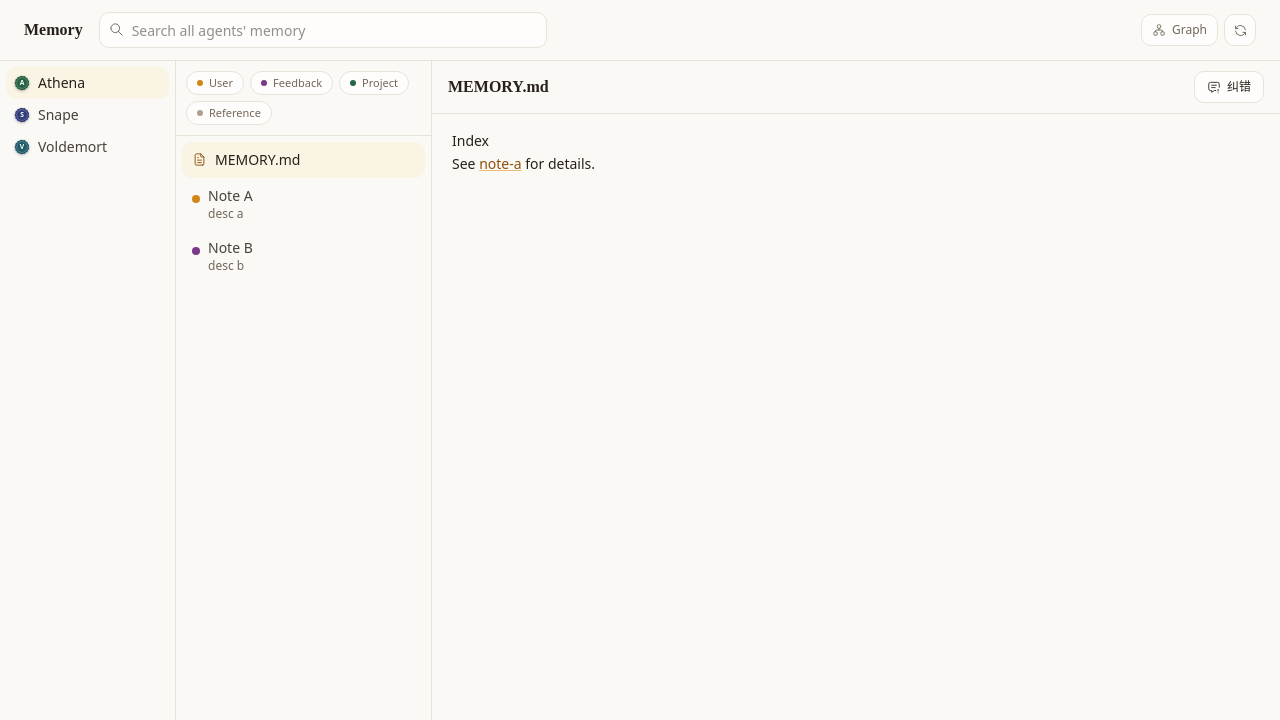
MemoryPage › clears stale data and hides the correct button when switching to an agent whose fetch fails
Expected: the heading "Index" is shown, [452, 131, 489, 150]
Click the text "Voldemort".
click(73, 147)  # box [38, 137, 107, 157]
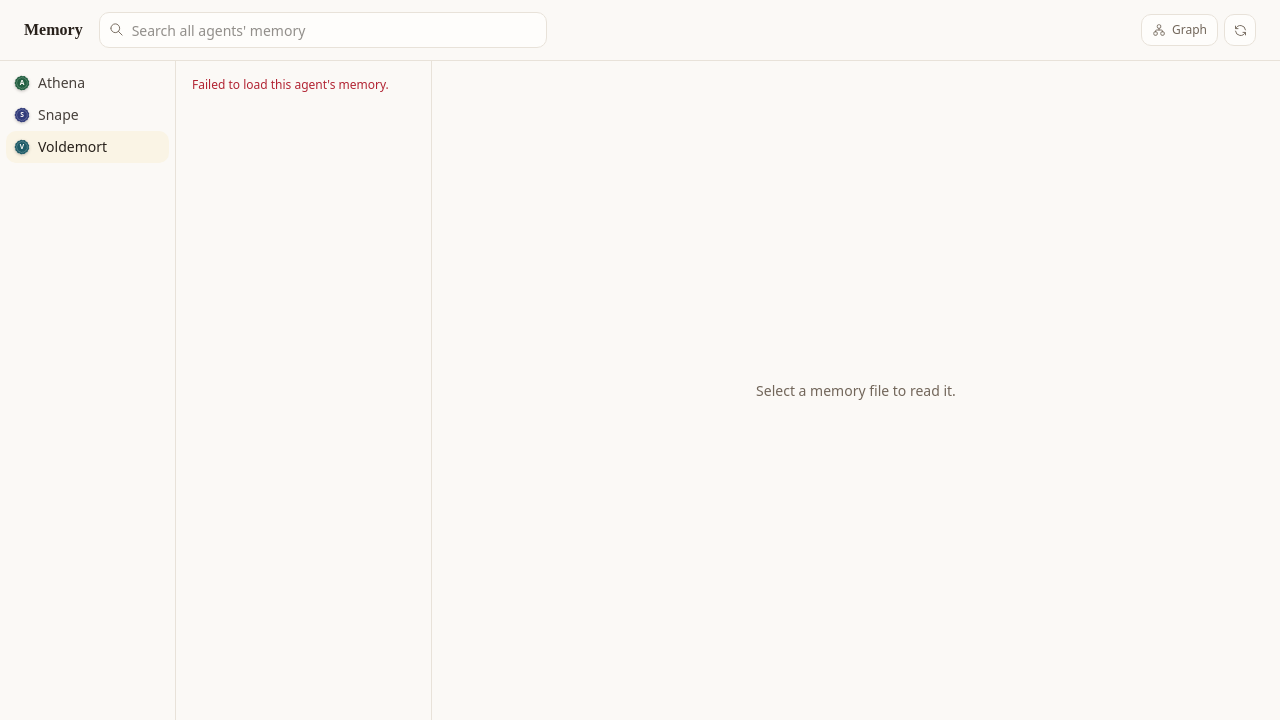
Now the heading "Index" is gone
Now the button "Note A" is gone
Now the button "纠错" is gone
